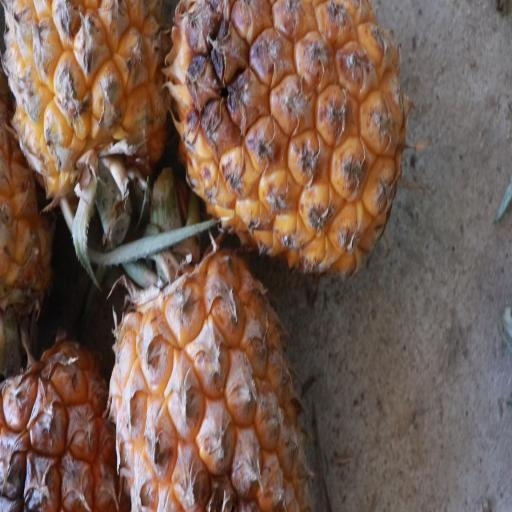Pineapple - v8 v1: (157, 0, 411, 281), (104, 211, 305, 512), (4, 0, 171, 251)
